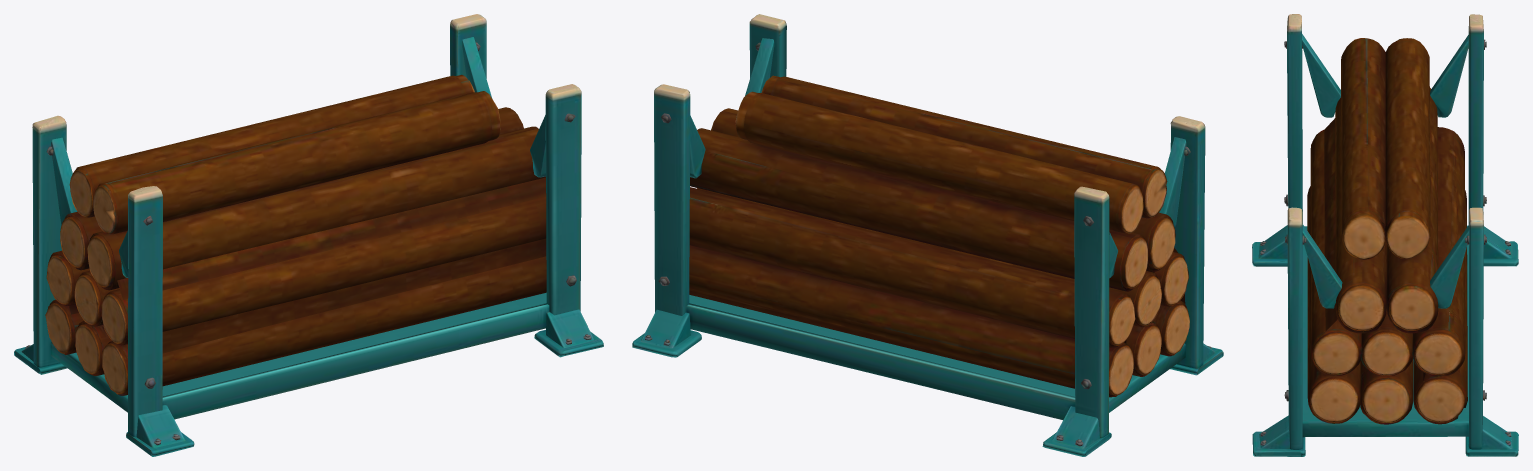
File: timber-log-cradle.glb
The picture shows the model from 3 angles, left to right: view 1: azimuth 30°, elevation 25°; view 2: azimuth 150°, elevation 25°; view 3: azimuth 270°, elevation 25°; orthographic projection. The views are drawn at different scales.
Parts seen in each view (by area): view 1: geometry_0; view 2: geometry_0; view 3: geometry_0.
Part boxes in pixels (bbox=[...]): geometry_0: bbox=[14, 14, 603, 456]; geometry_0: bbox=[632, 14, 1223, 456]; geometry_0: bbox=[1252, 14, 1518, 456].
Size of the model in its own units: 3.4 by 1.78 by 1.83.
1 material, 1 textured.
